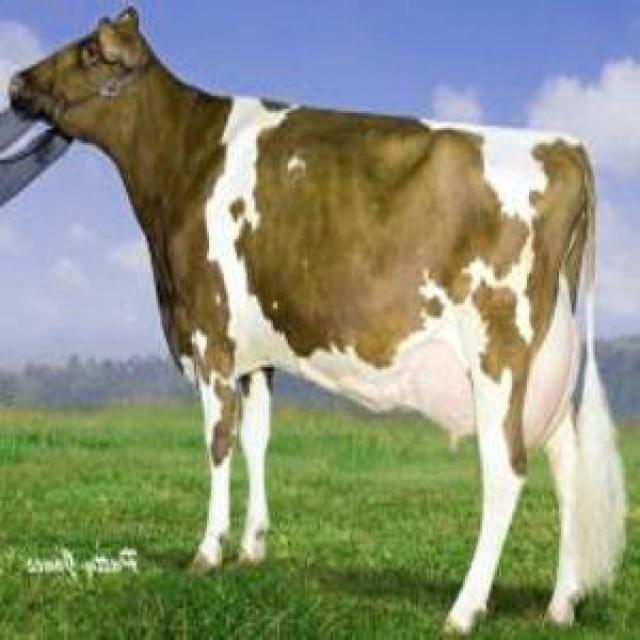cow: (10, 10, 624, 632)
